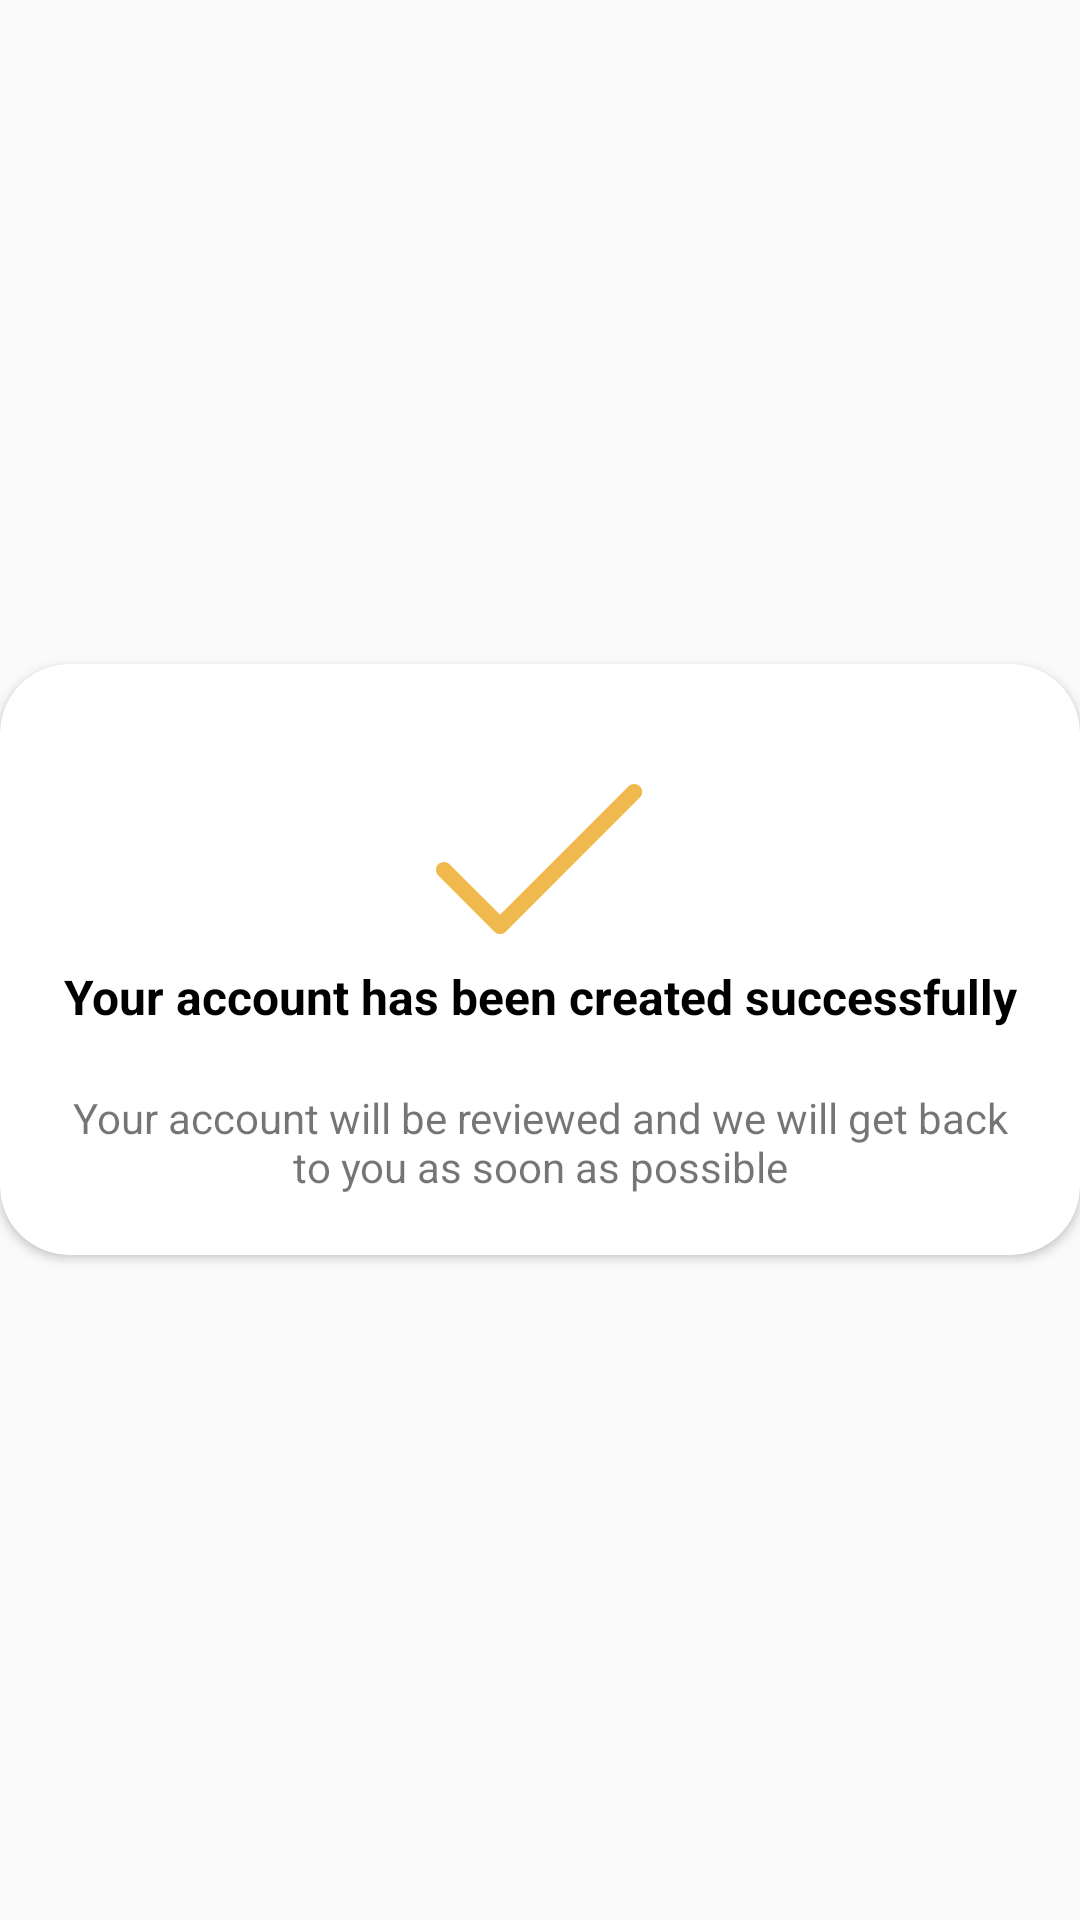

Where to tap for icons on this 1080 x 1920 app screen, as point (x, y):
poptick: point (539, 859)
